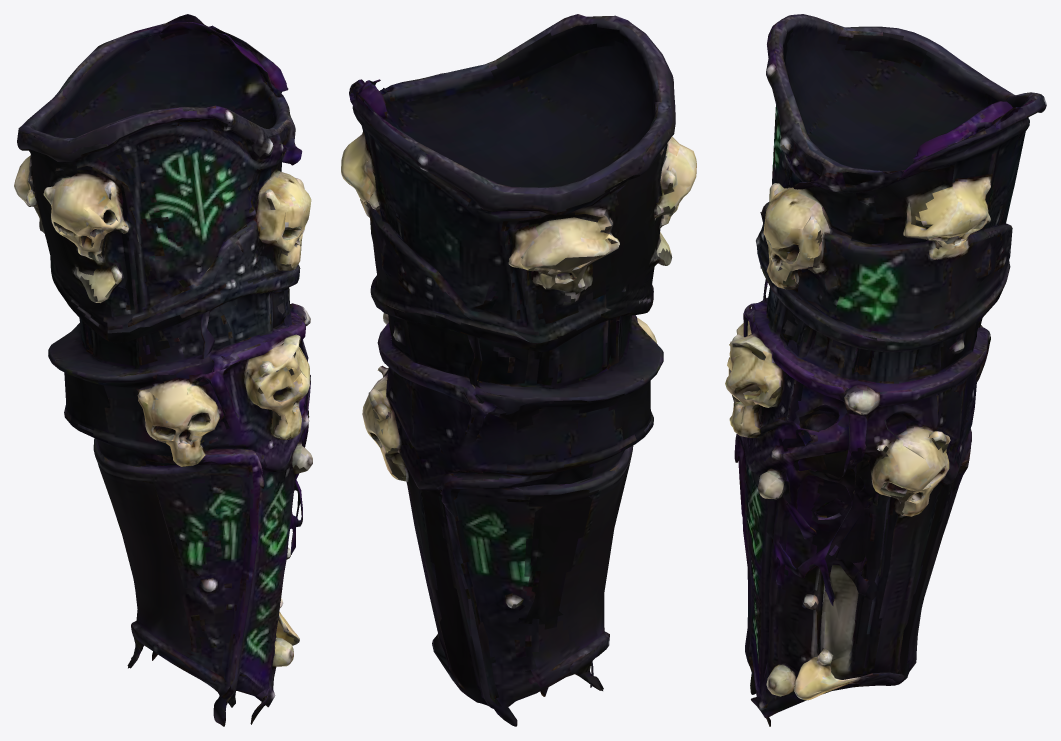
The model's file is necromante-bracal.glb.
3 views of the same model, side by side, from view 1: azimuth 30°, elevation 25°; view 2: azimuth 150°, elevation 25°; view 3: azimuth 270°, elevation 25° (orthographic). The views are drawn at different scales.
Visible parts, largest first — view 1: tripo_node_dd929998-0b89-4ca2-934c-6f21e2af3d63; view 2: tripo_node_dd929998-0b89-4ca2-934c-6f21e2af3d63; view 3: tripo_node_dd929998-0b89-4ca2-934c-6f21e2af3d63.
Boxes of the visible parts, <box> form: tripo_node_dd929998-0b89-4ca2-934c-6f21e2af3d63: <box>14,14,312,726</box>; tripo_node_dd929998-0b89-4ca2-934c-6f21e2af3d63: <box>341,14,696,726</box>; tripo_node_dd929998-0b89-4ca2-934c-6f21e2af3d63: <box>725,14,1046,726</box>.
Bounding box in the file's own units: 0.4285 × 0.9761 × 0.4286.
1 material, 1 textured.
